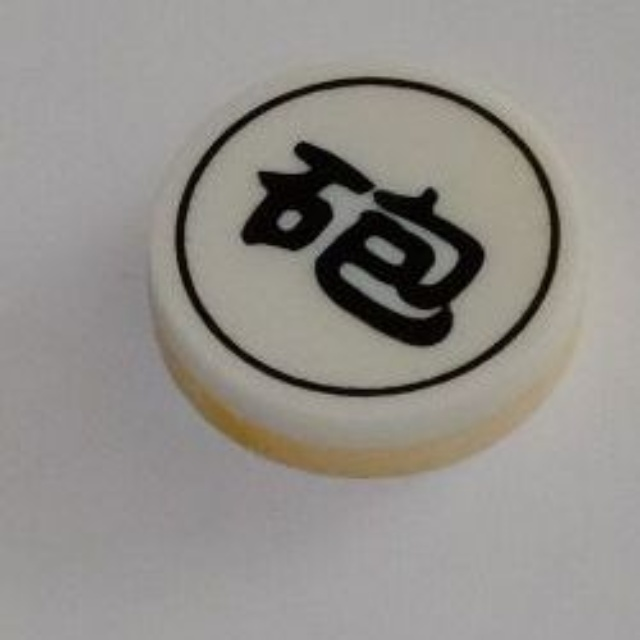black_phao: (145, 53, 595, 486)
